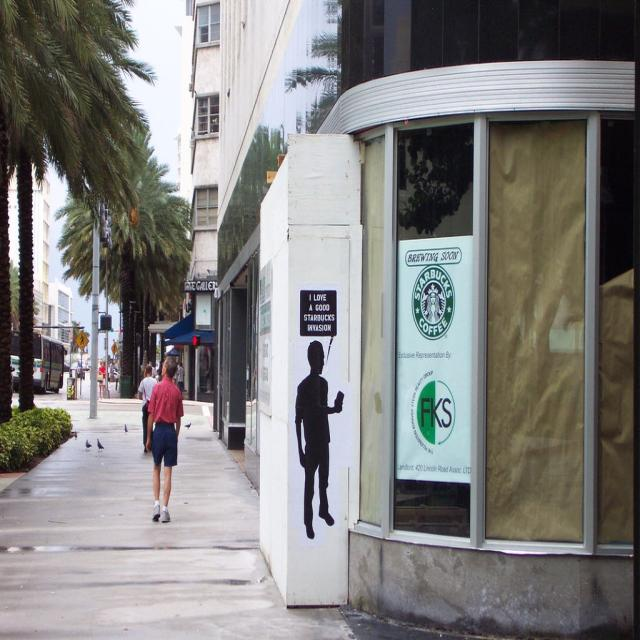starbucks: (412, 265, 456, 340)
